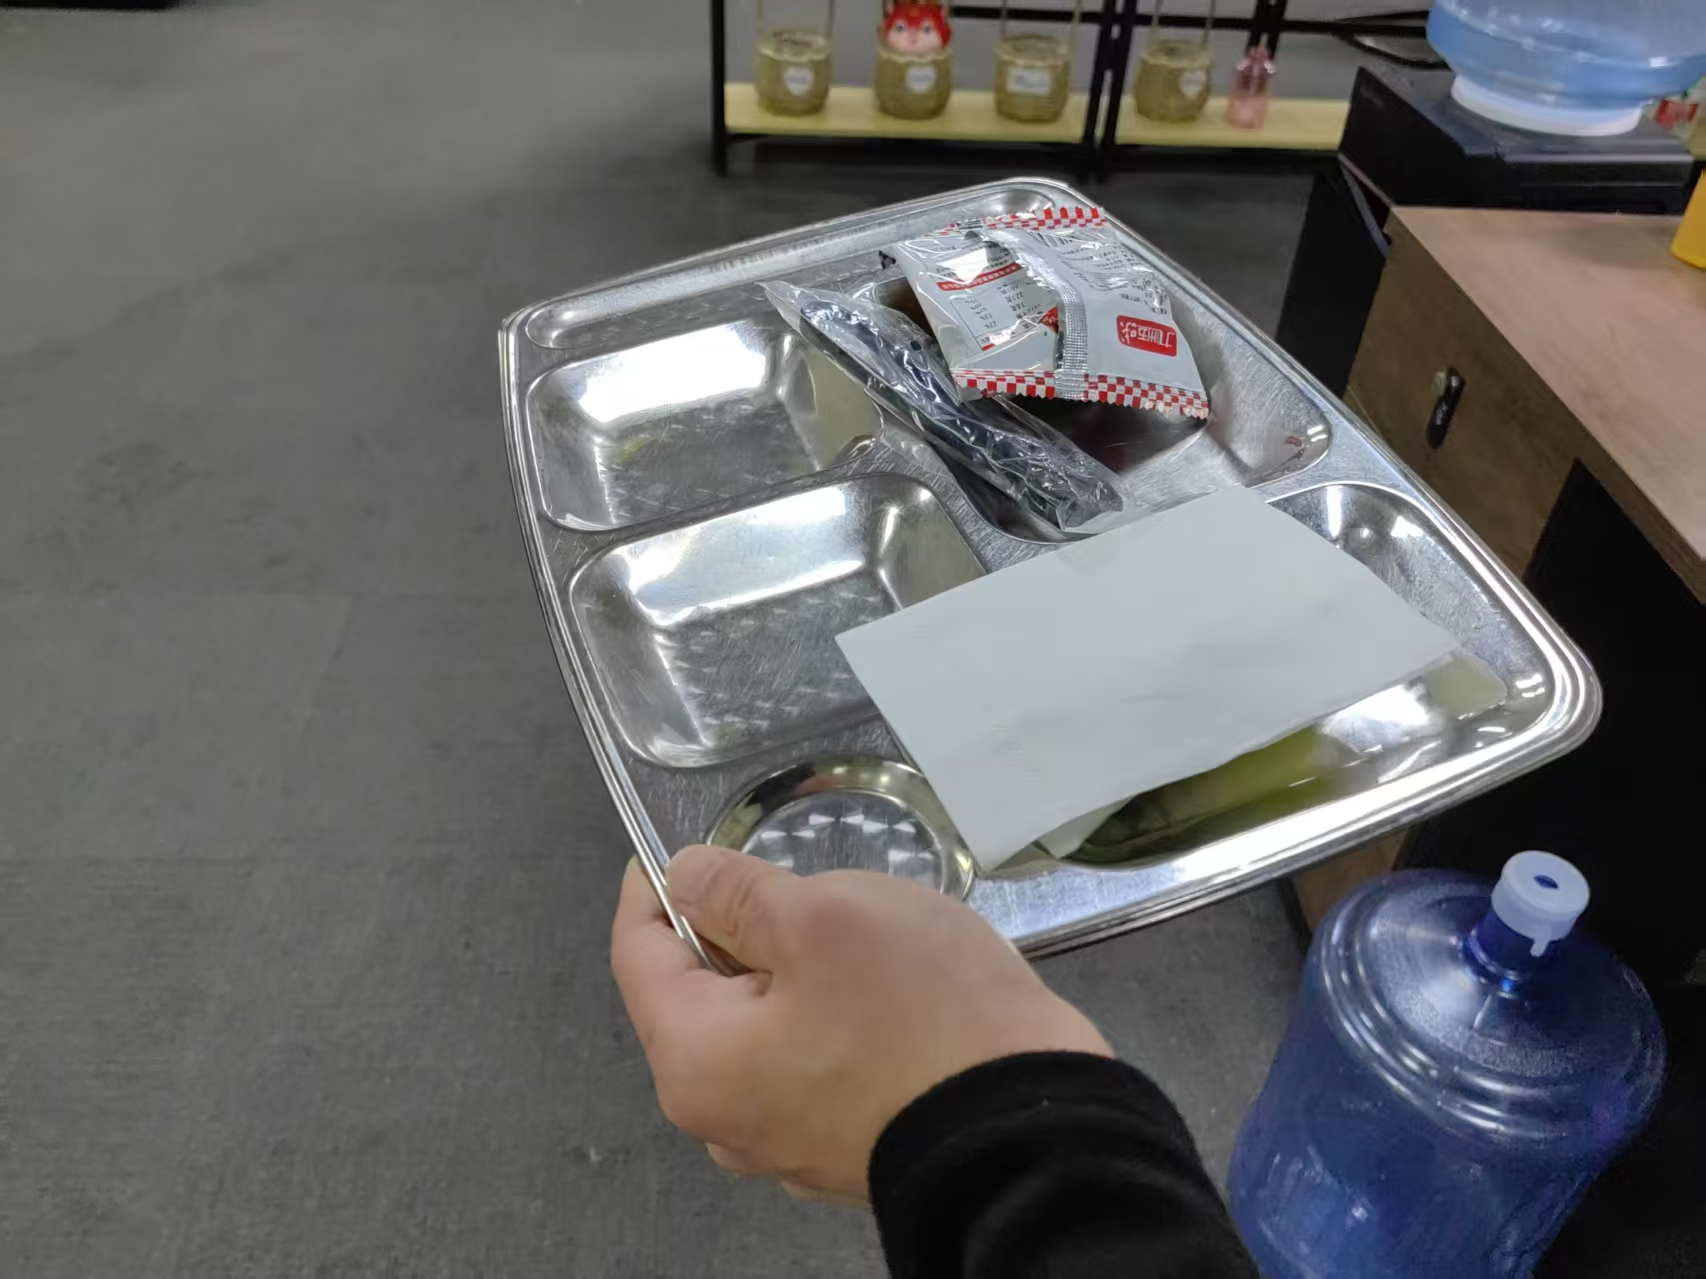mild: (766, 205, 1211, 535)
plate: (491, 171, 1608, 1002)
tissue: (833, 482, 1436, 868)
